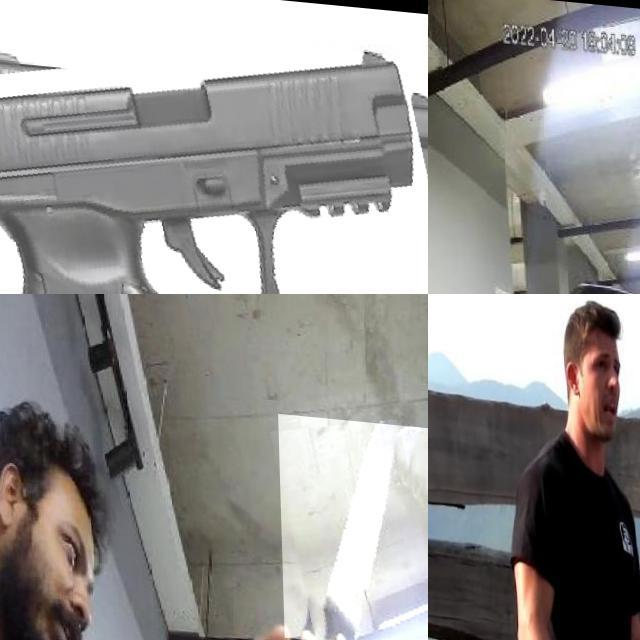-: (276, 406, 428, 640)
gun-knife-thesis - v11 Yolov5 augmented: (0, 10, 428, 294)
